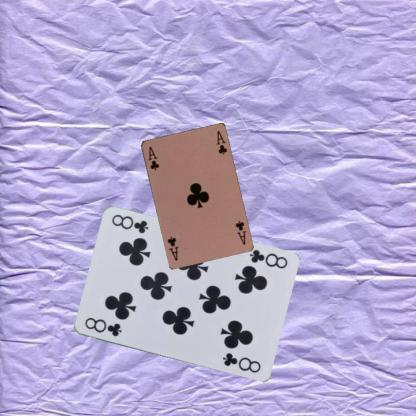8c: (246, 247, 288, 270), (82, 315, 123, 338)
Ac: (232, 218, 247, 246), (146, 144, 160, 171)
